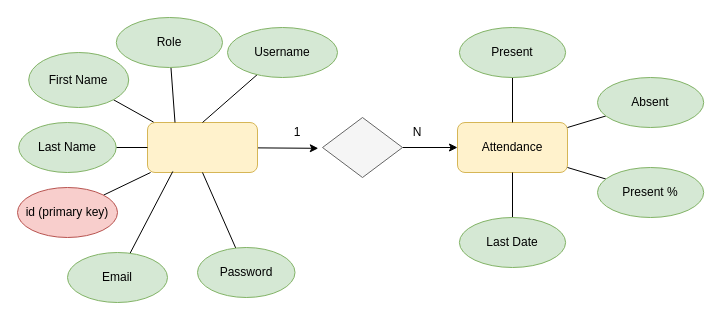
Image size: 722x320. Some labels were removed from this diagram. The shapes that lost their labels are listed below. From the top down, each one's centre as x and y in pixels, then its label:
(x=202, y=147): User
(x=362, y=147): has
